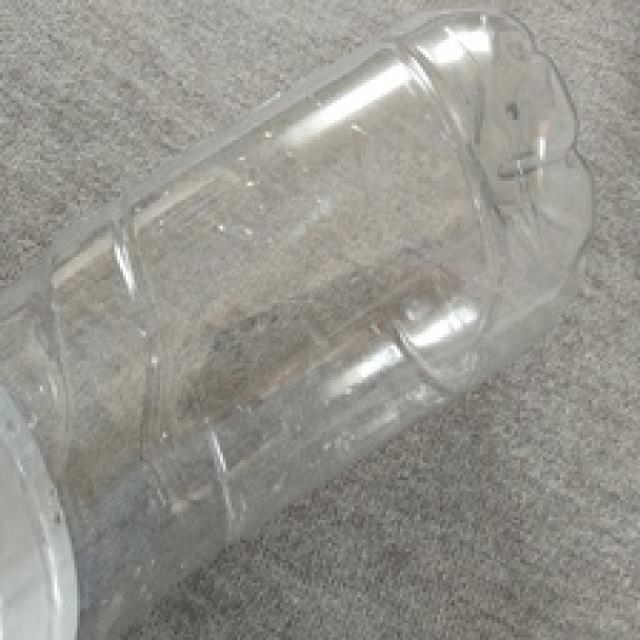Plastic: (0, 8, 591, 636)
